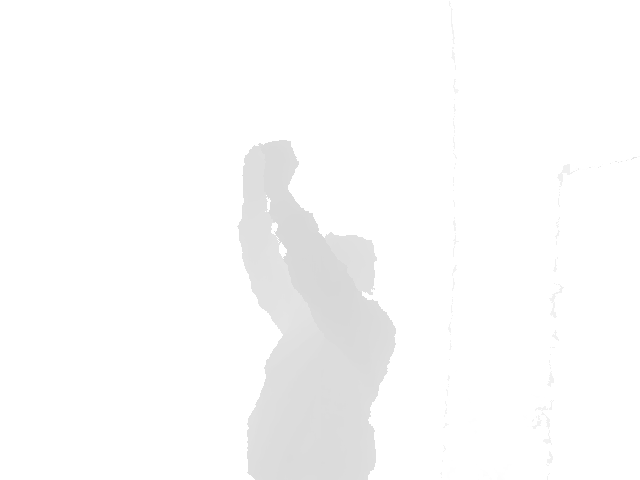hand: (261, 140, 300, 190), (242, 143, 267, 203)
head: (306, 232, 376, 305)
person: (237, 140, 397, 479)
